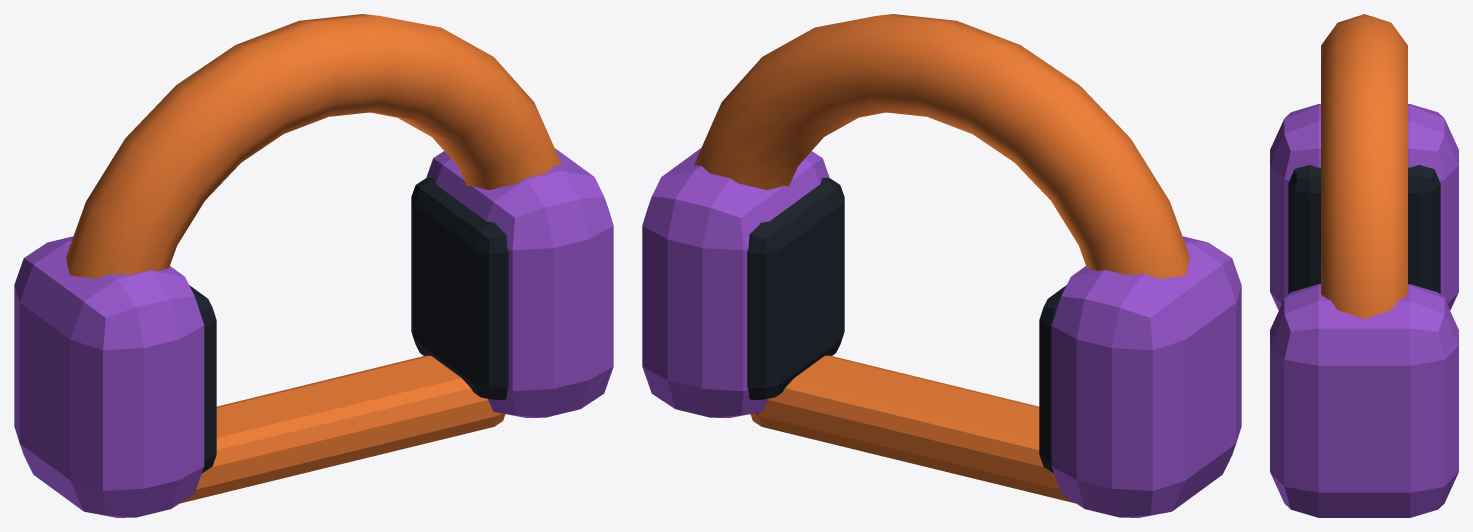
File: ACC_TH_MUSIC_Primary.fbx
3 renders of one model, left to right at view 1: azimuth 30°, elevation 25°; view 2: azimuth 150°, elevation 25°; view 3: azimuth 270°, elevation 25°, orthographic. The views are drawn at different scales.
Visible parts, largest first — view 1: ACC_TH_MUSIC_Primary; view 2: ACC_TH_MUSIC_Primary; view 3: ACC_TH_MUSIC_Primary.
Part boxes in pixels (<box>): ACC_TH_MUSIC_Primary: <box>14,14,613,517</box>; ACC_TH_MUSIC_Primary: <box>642,14,1241,517</box>; ACC_TH_MUSIC_Primary: <box>1270,14,1458,517</box>.
Bounding box in the file's own units: 92 × 70.5 × 31.
